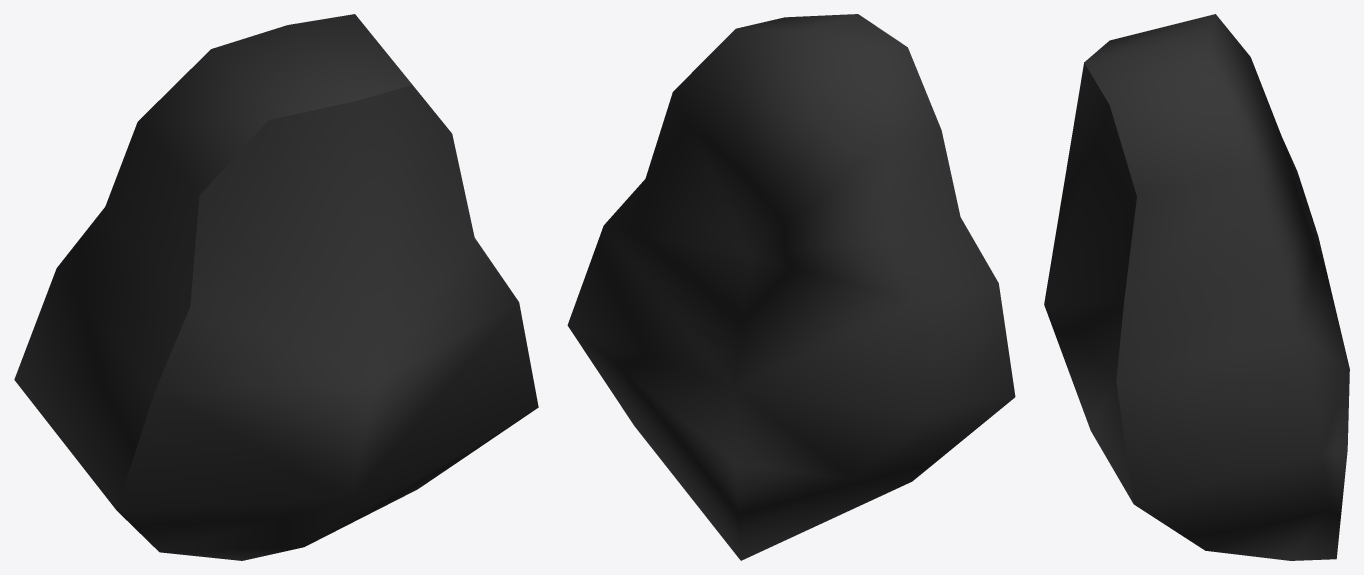
File: Beard_Black_2.fbx
3 renders of one model, left to right at view 1: azimuth 30°, elevation 25°; view 2: azimuth 150°, elevation 25°; view 3: azimuth 270°, elevation 25°, orthographic. The views are drawn at different scales.
Parts seen in each view (by area): view 1: Beard_Black_2; view 2: Beard_Black_2; view 3: Beard_Black_2.
Part boxes in pixels (left/top/right/bottom): Beard_Black_2: left=14, top=14, right=538, bottom=560; Beard_Black_2: left=567, top=14, right=1015, bottom=560; Beard_Black_2: left=1044, top=14, right=1349, bottom=560.
Size of the model in its own units: 9.51 by 12.25 by 6.48.
